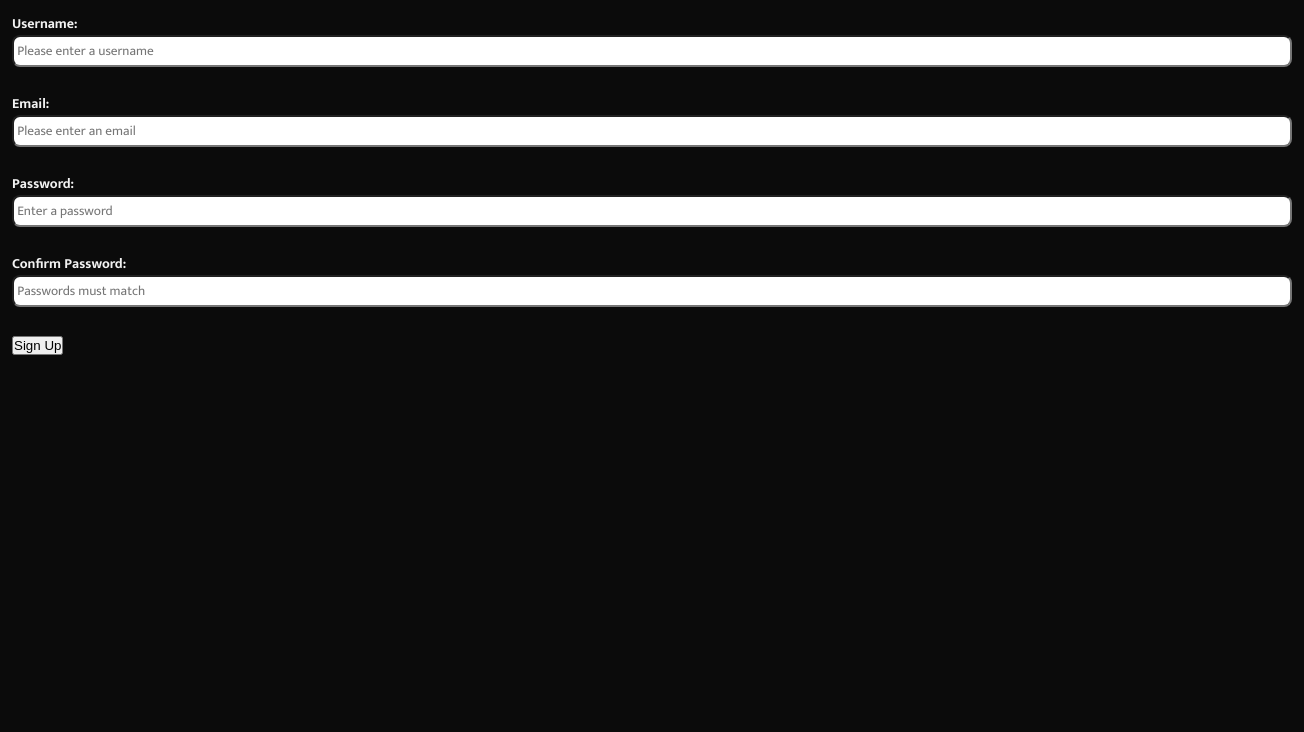
Test case: Sign Up form › Displays error message on invalid username input when users click away
Expected: the text "Username must be between 1 and 20 characters" is not shown
What coordinates should you click on to do the following:
click the field labelled "Username:"
I would click on:
 (652, 51)
Its box is [12,35,1292,67].
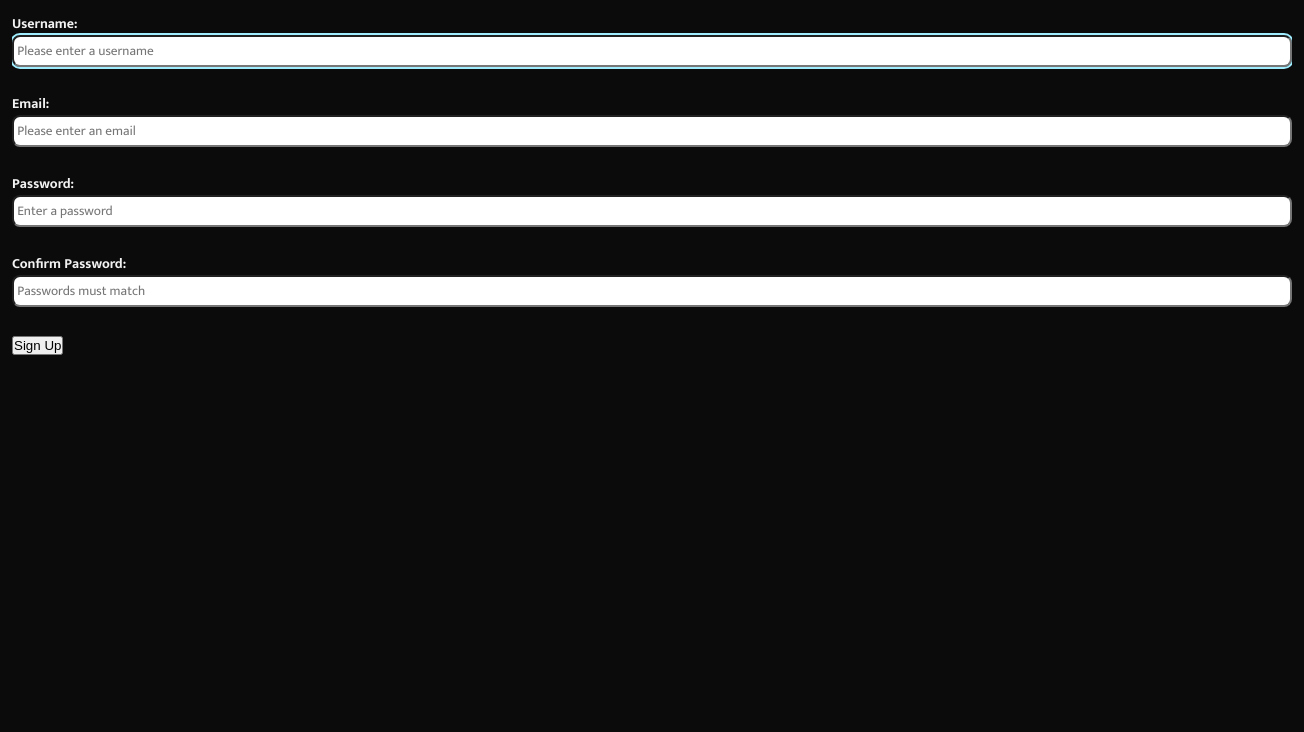
What coordinates should you click on to do the following:
click the element showing "Username: Email: Password: Confirm Password: Sign Up"
I would click on:
 (652, 372)
Its box is [12,12,1292,731].
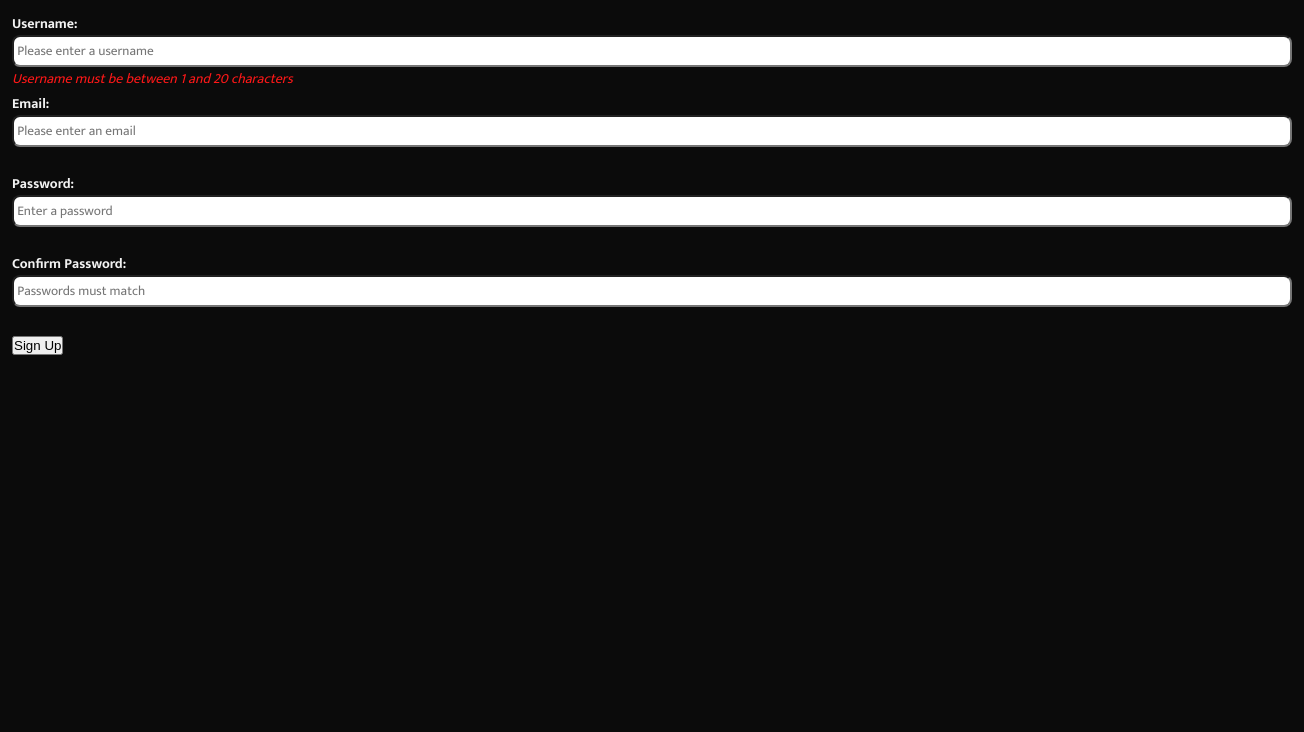
Expected: the text "Username must be between 1 and 20 characters" is shown, [12,67,293,90]
